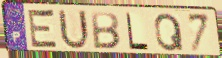7: (187, 12, 211, 55)
B: (90, 11, 122, 51)
E: (27, 7, 61, 52)
L: (125, 11, 150, 52)
Q: (153, 12, 186, 53)
U: (56, 8, 91, 52)
